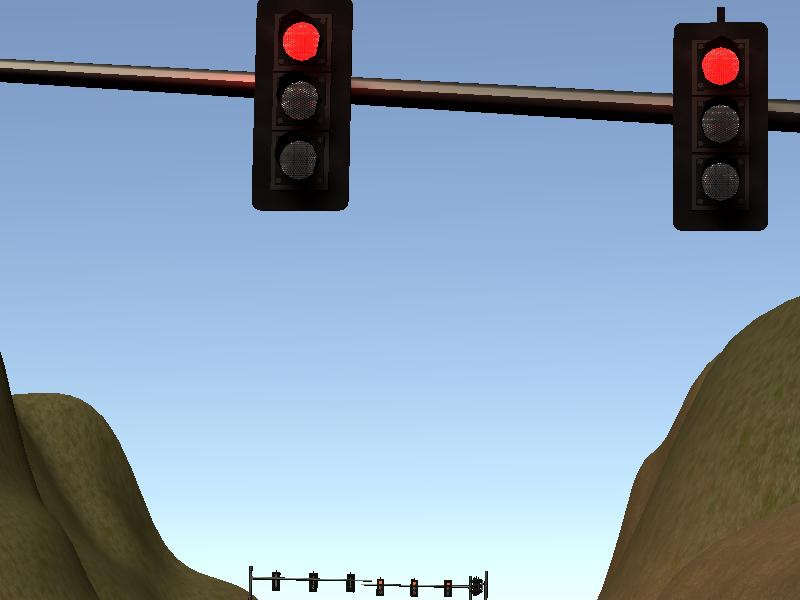Red: (670, 20, 770, 238), (252, 1, 352, 218), (375, 575, 386, 598), (408, 576, 419, 599), (442, 577, 453, 600)
